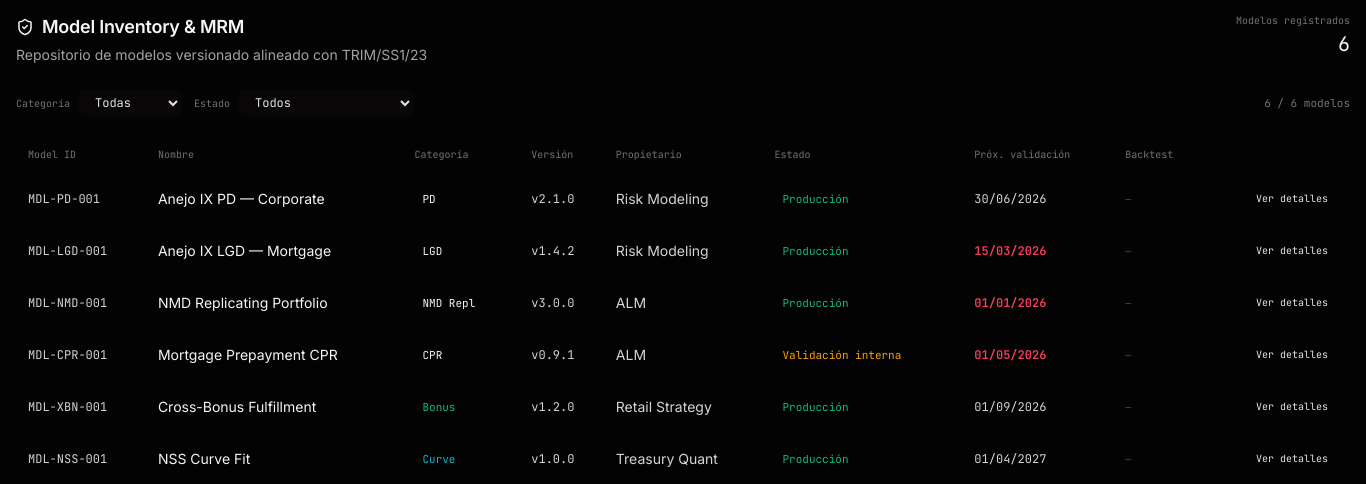
Test: ModelInventoryPanel › shows the empty state when no models match the selected category
The width and height of the screenshot is (1366, 484).
Select "Stress" in the dropdown labelled "Categoría". click: (130, 103)
box: [78,89,182,117]
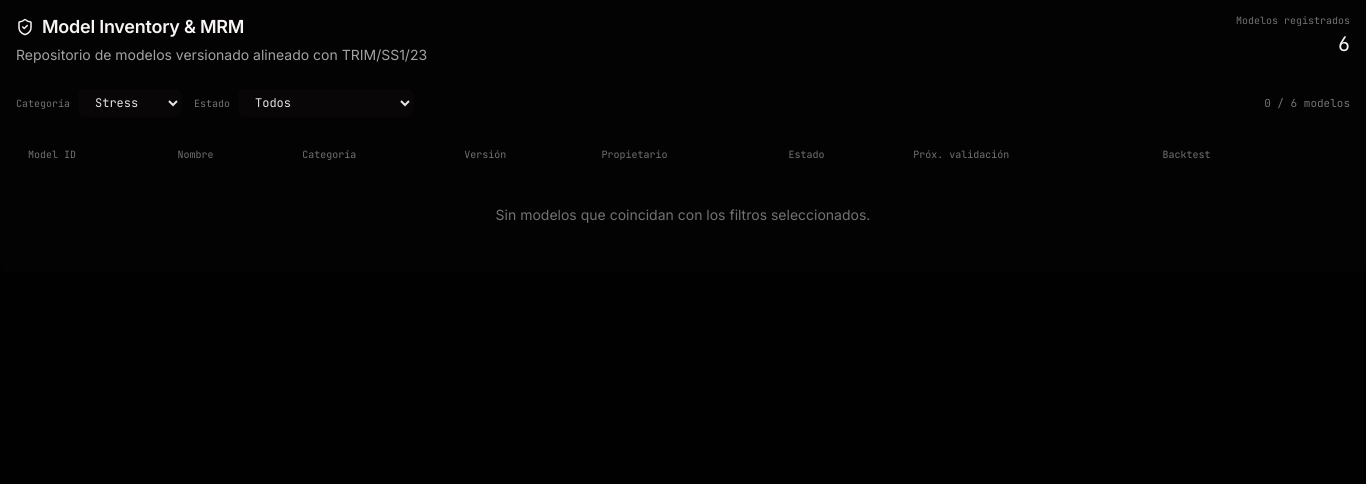
Expected: the text "Sin modelos que coincidan con los filtros seleccionados." is shown, [16,173,1350,257]
